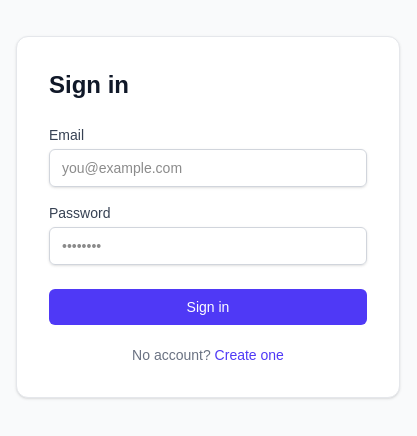
Test: LoginForm › shows validation error for invalid email
This screenshot has width=417, height=436.
In the field labelled "Email": [208, 168] box top-left (49, 149), bottom-right (367, 187), type "notanemail"
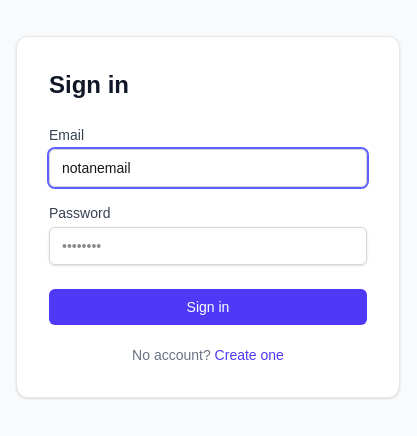
Click the button "Sign in": [208, 307] box top-left (49, 289), bottom-right (367, 325)
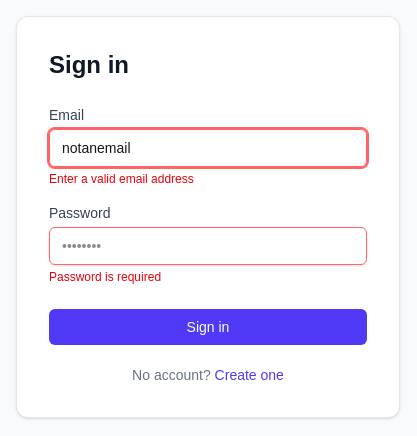
Expected: the text "Enter a valid email address" is shown, top-left (49, 172), bottom-right (194, 186)
